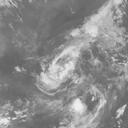cyclone: (35, 44, 93, 95)
